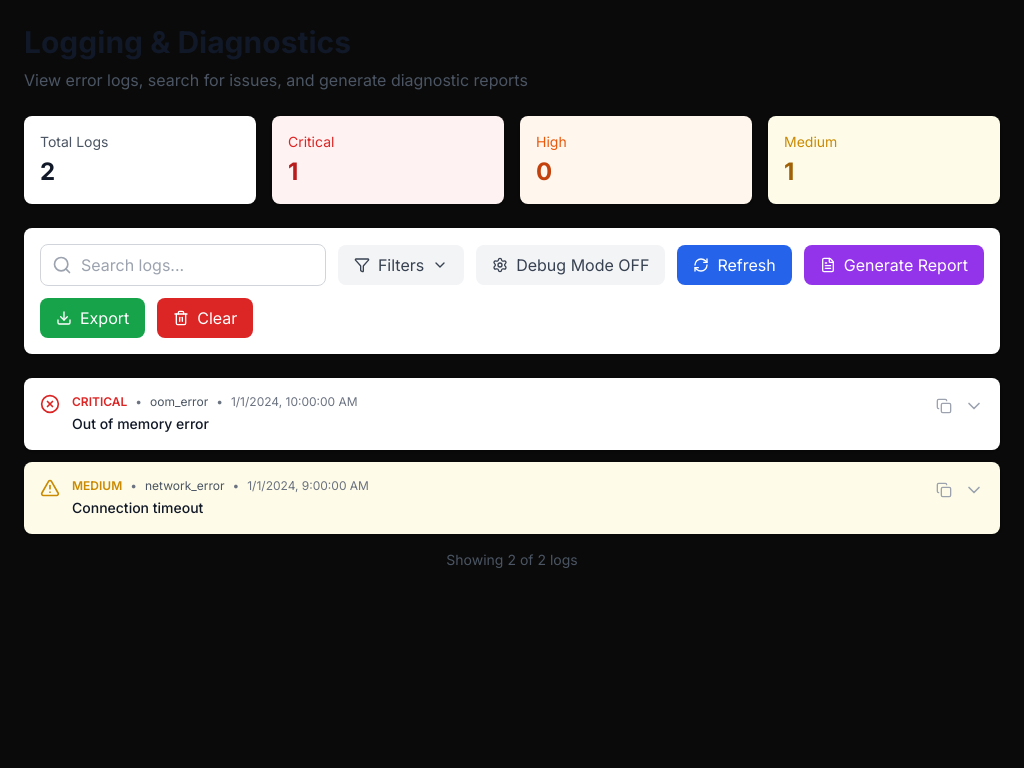
Test case: LoggingDiagnostics › Requirement 19.2: Log search functionality › should show no results message when search has no matches
Expected: the text "Out of memory error" is shown, [72, 415, 209, 432]
# Search for non-existent text
Type "nonexistent" into the field with placeholder "Search logs..." at (183, 265), box [40, 244, 326, 286]
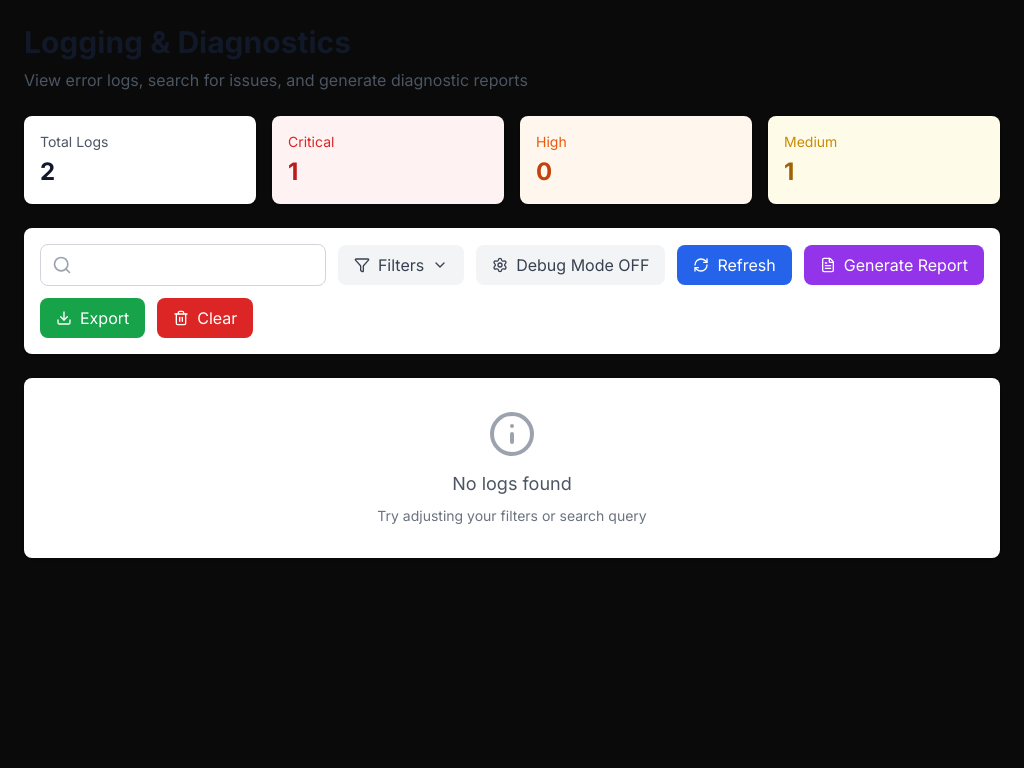
Now the text "No logs found" is shown, box [452, 473, 572, 494]
